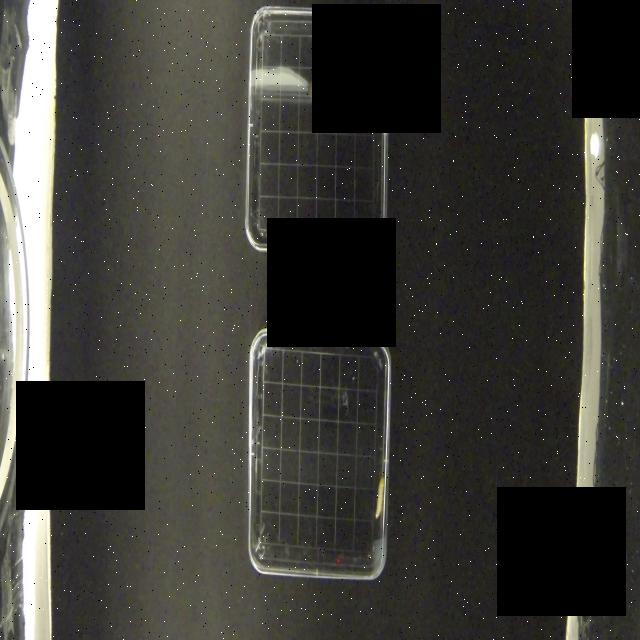larva: (361, 39, 386, 87), (371, 474, 388, 520)
